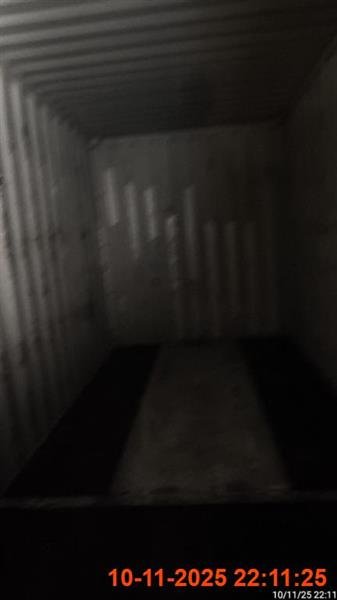hole: (34, 60, 304, 540)
